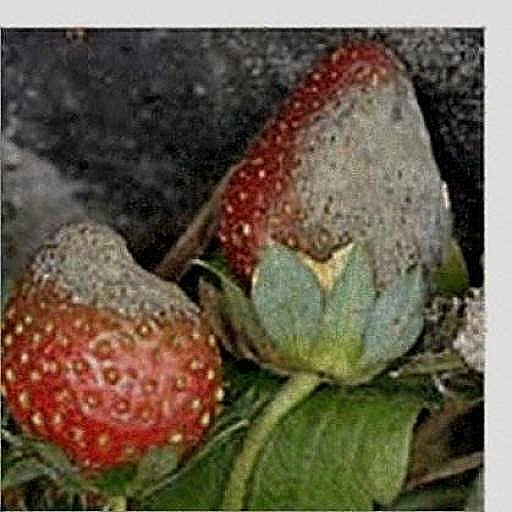Gray Mold: (223, 211, 456, 472), (12, 166, 216, 295)
